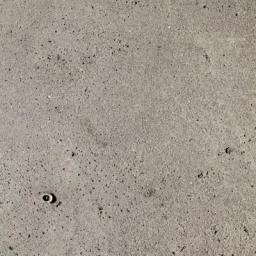FOD: (36, 192, 61, 208)
